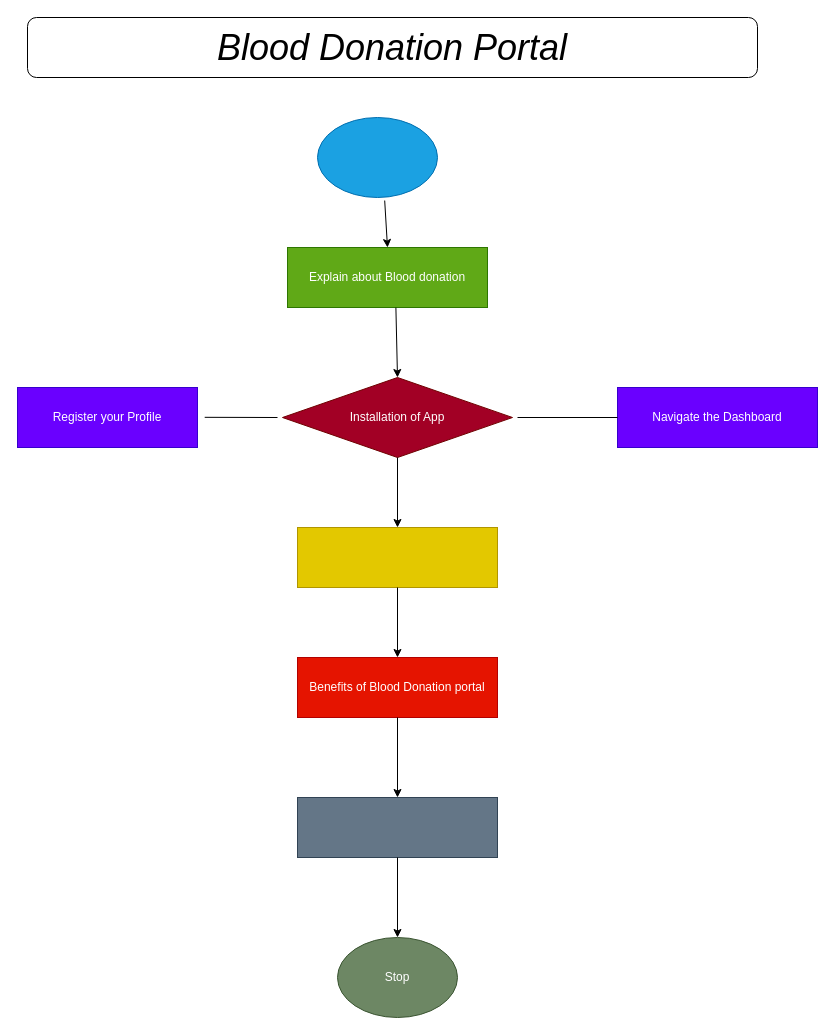
Image size: 835x1035. Some labels were removed from this diagram. Here are the shapes that lost their labels. From the top down, the box of each, then its label:
(316, 116, 438, 198): Start
(296, 526, 498, 588): life Saver Blood Drive
(296, 796, 498, 858): Conclusion
